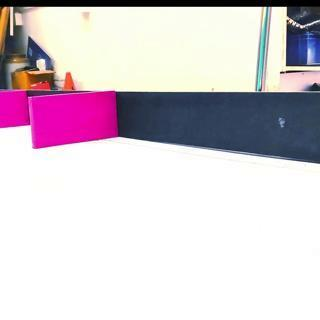xparking: (28, 96, 116, 138), (0, 90, 26, 126)
